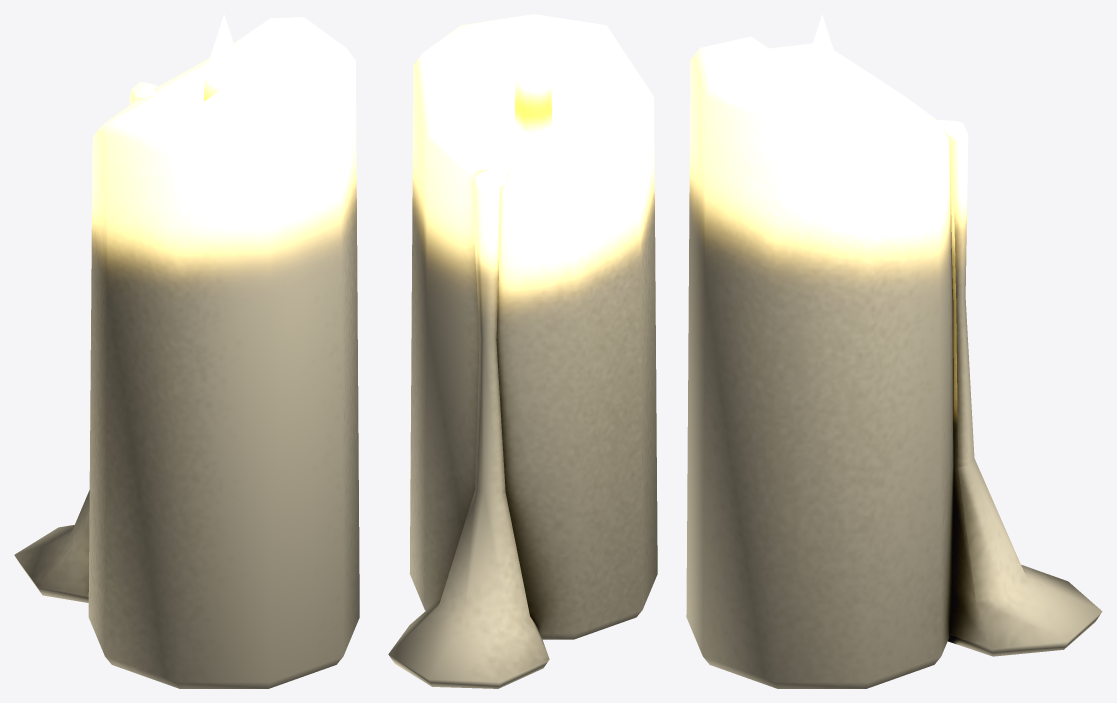
File: tall pillar candle.FBX
3 renders of one model, left to right at view 1: azimuth 30°, elevation 25°; view 2: azimuth 150°, elevation 25°; view 3: azimuth 270°, elevation 25°, orthographic. The views are drawn at different scales.
Parts seen in each view (by area): view 1: tall thick candle; view 2: tall thick candle; view 3: tall thick candle.
Part boxes in pixels (box(x1,y1,x2,y2)): tall thick candle: box(14, 14, 359, 688); tall thick candle: box(388, 14, 657, 688); tall thick candle: box(686, 14, 1102, 688).
Size of the model in its own units: 0.0655 by 0.1687 by 0.1021.
Materials: 1 (1 with a texture image).
